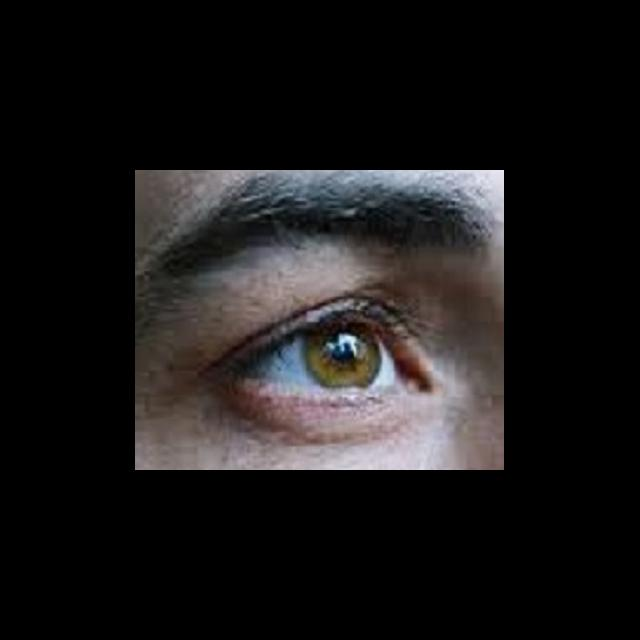eye: (247, 320, 400, 390)
iris: (303, 325, 381, 388)
